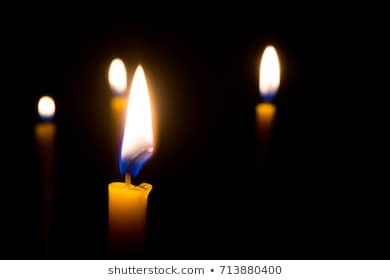Fire: (117, 63, 153, 179), (257, 44, 283, 103), (103, 54, 129, 96), (34, 92, 56, 119)
